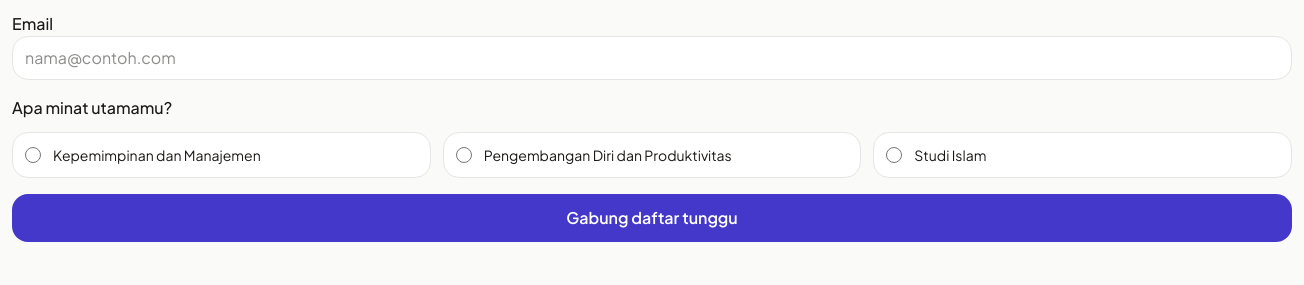
it: replaces form with position, share link and WhatsApp after success
This screenshot has width=1304, height=285.
Type "person@example.com" into the field labelled "Email" at [652, 58], box [12,36,1292,80]
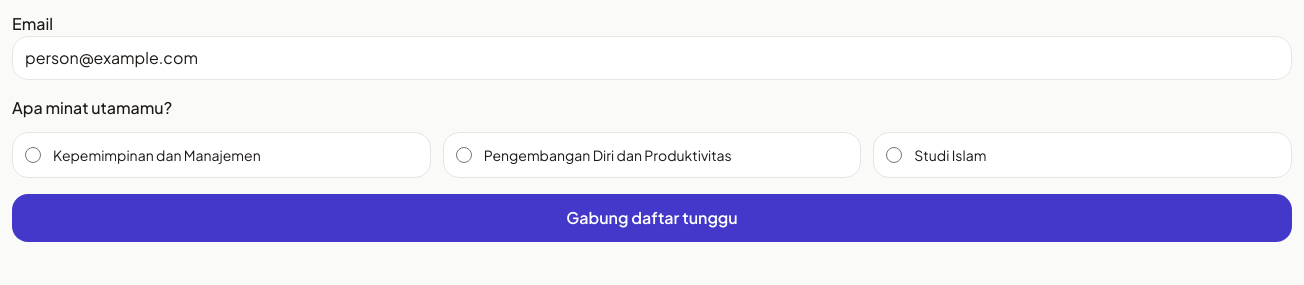
Click the radio button labelled "Kepemimpinan dan Manajemen" at [33, 155], box [25,147,41,163]
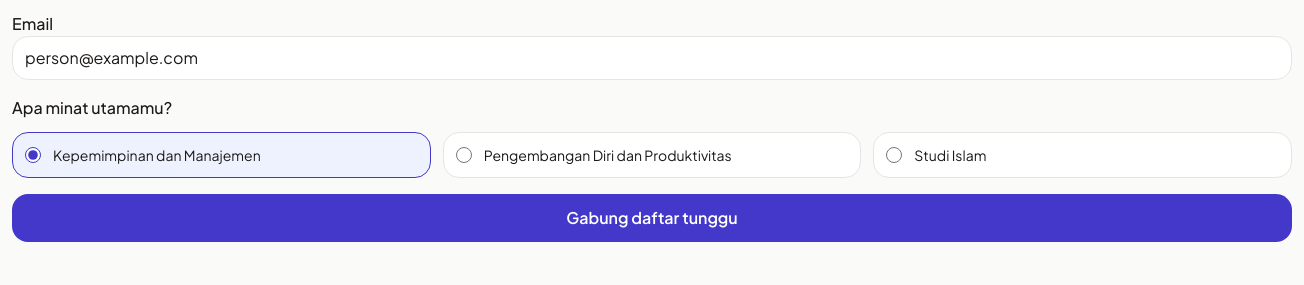
Submit the form named "Gabung daftar tunggu"
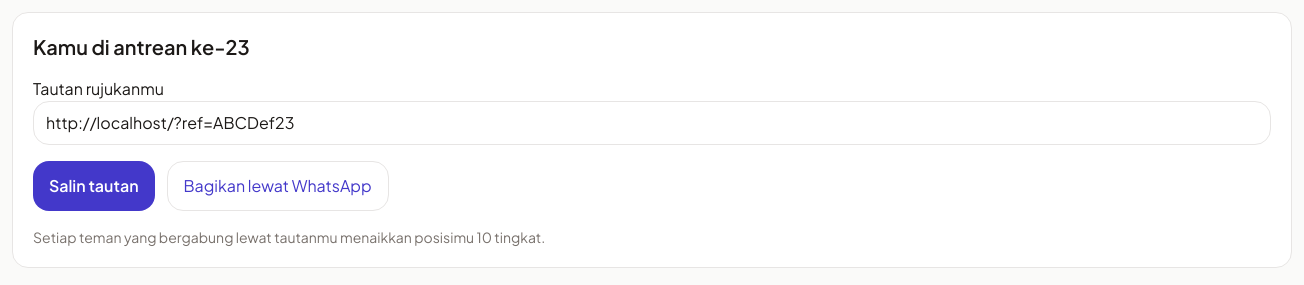
Now the heading "Kamu di antrean ke-23" is shown, box [33,34,250,59]
Now the radio button is gone
